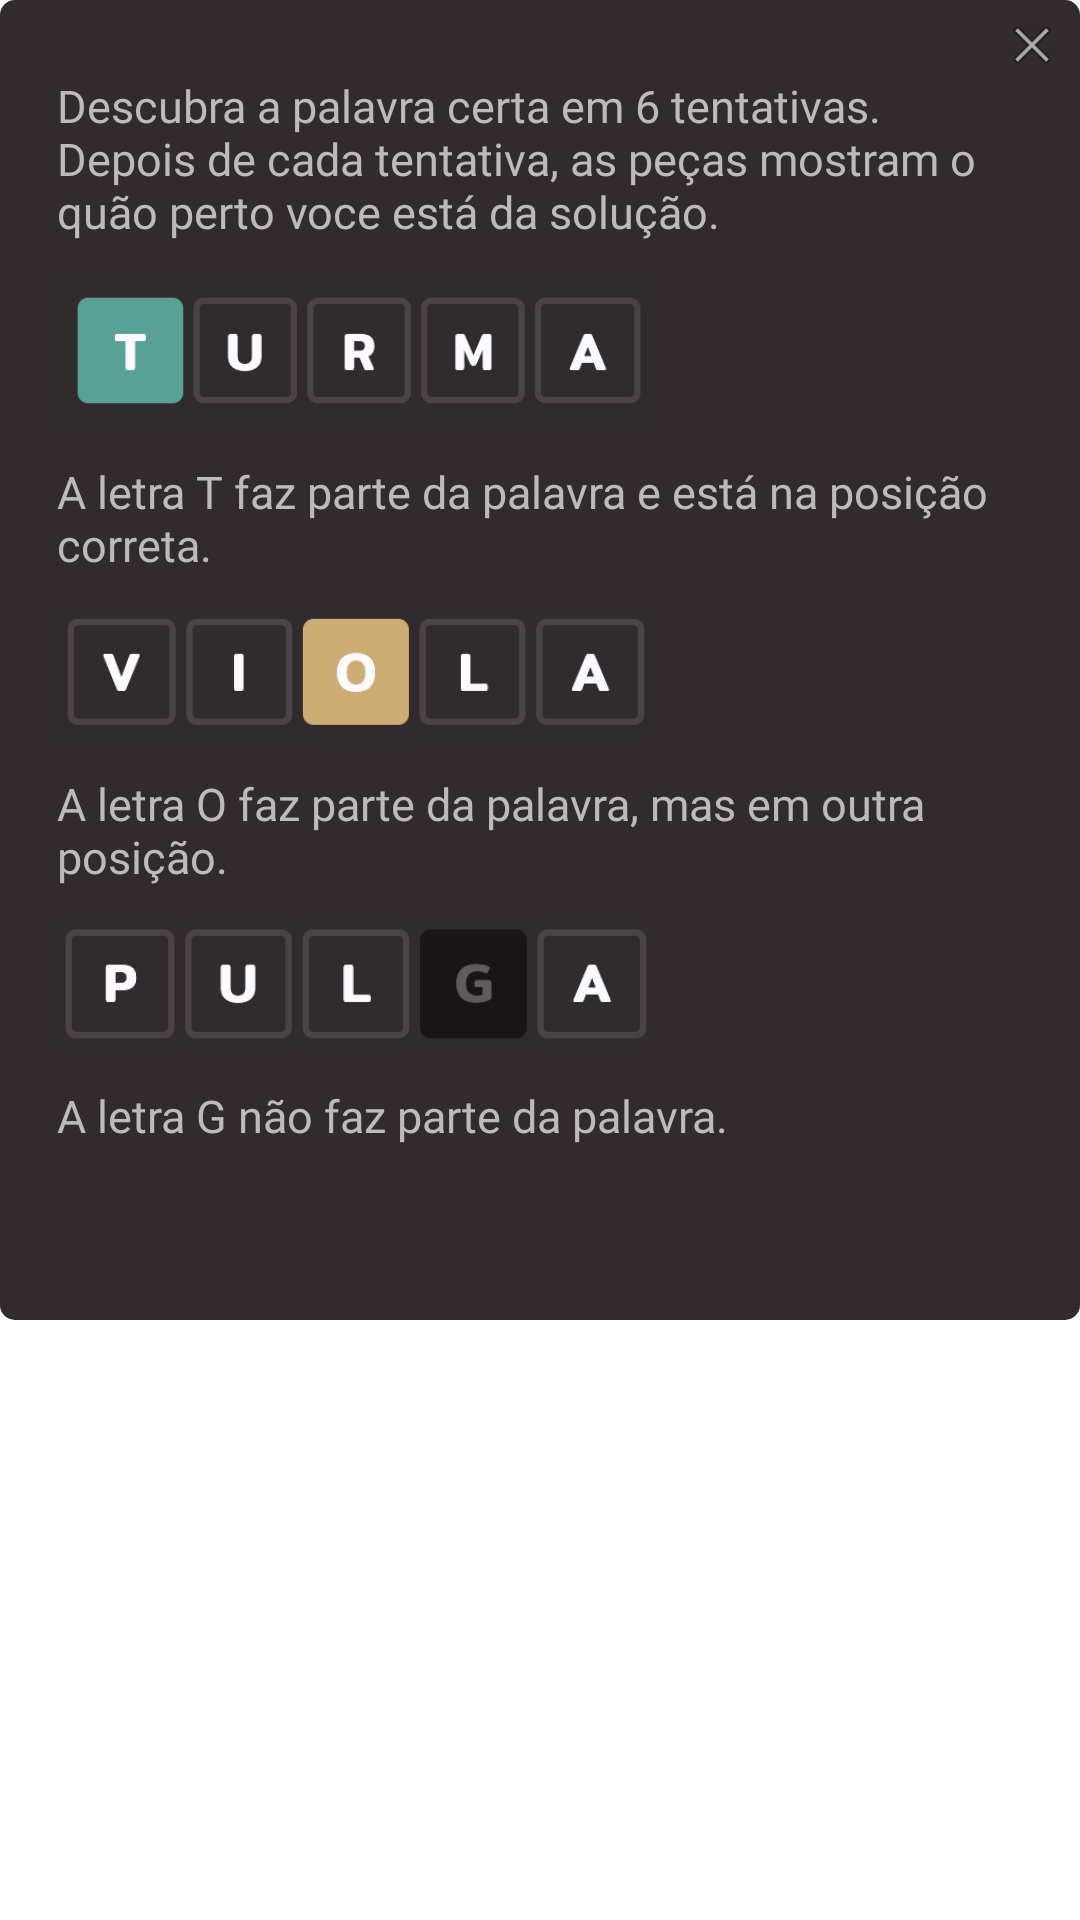

Where to tap for icons on this 1080×1920 app screen, as (x=x, y=y):
close clear cancel: (x=1032, y=45)
